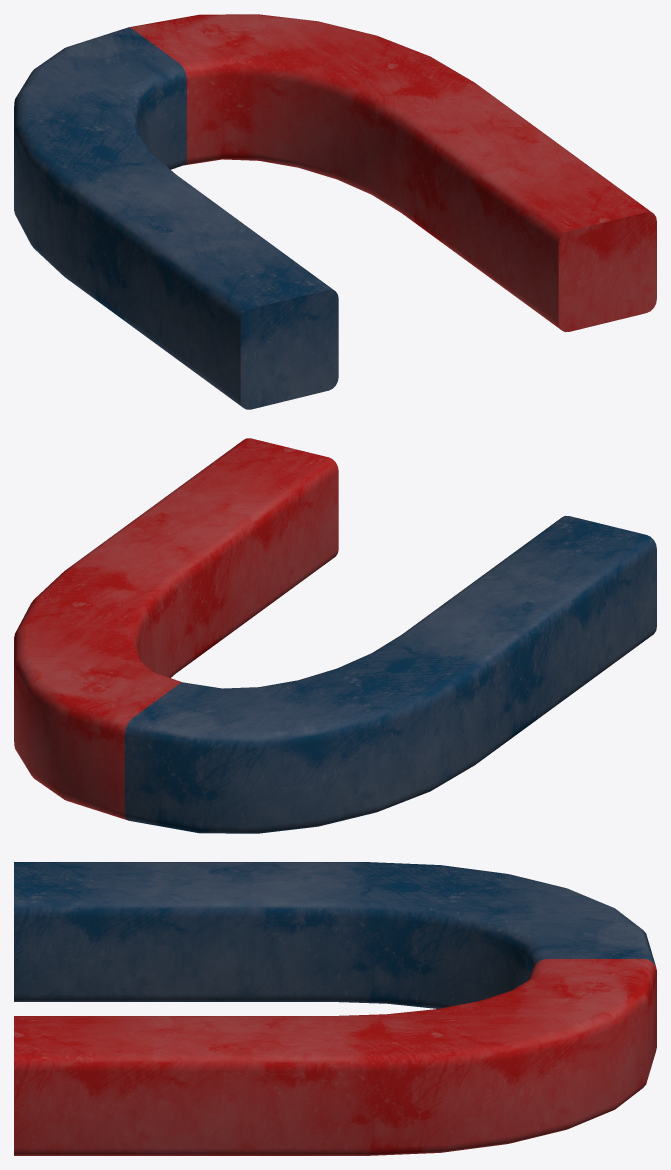
Rendered from Magnet.glb.
3 views of the same model, one above another, from view 1: azimuth 30°, elevation 25°; view 2: azimuth 150°, elevation 25°; view 3: azimuth 270°, elevation 25° (orthographic).
Parts seen in each view (by area): view 1: Magnet; view 2: Magnet; view 3: Magnet.
Part boxes in pixels (left/top/right/bottom): Magnet: left=14, top=14, right=656, bottom=409; Magnet: left=14, top=438, right=656, bottom=833; Magnet: left=14, top=862, right=656, bottom=1155.
Bounding box in the file's own units: 282 × 65.31 × 380.
1 material, 1 textured.
